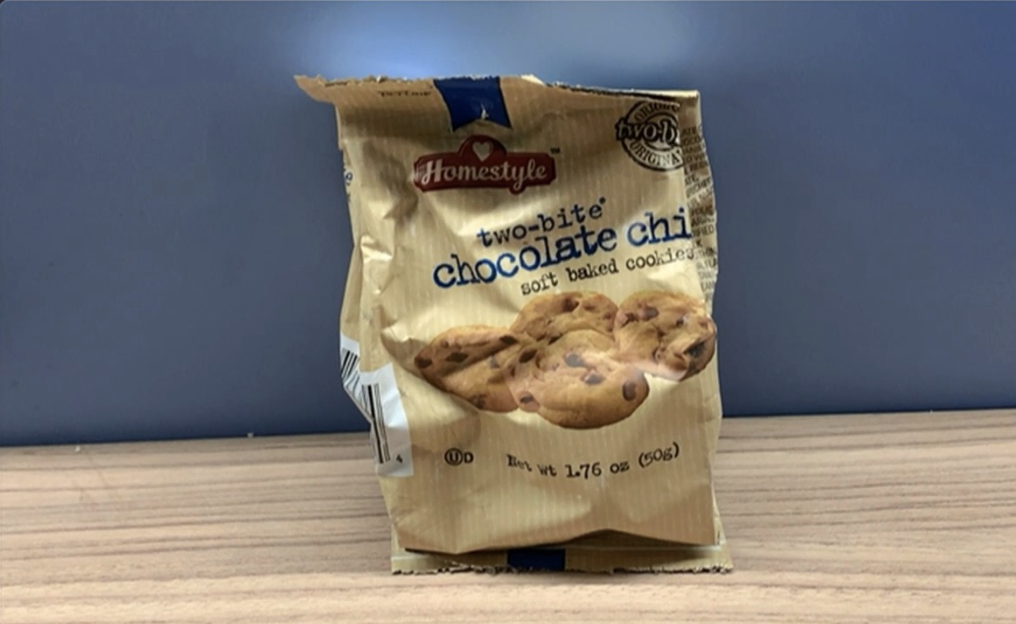cookies_1g-99g: (379, 152, 695, 500)
